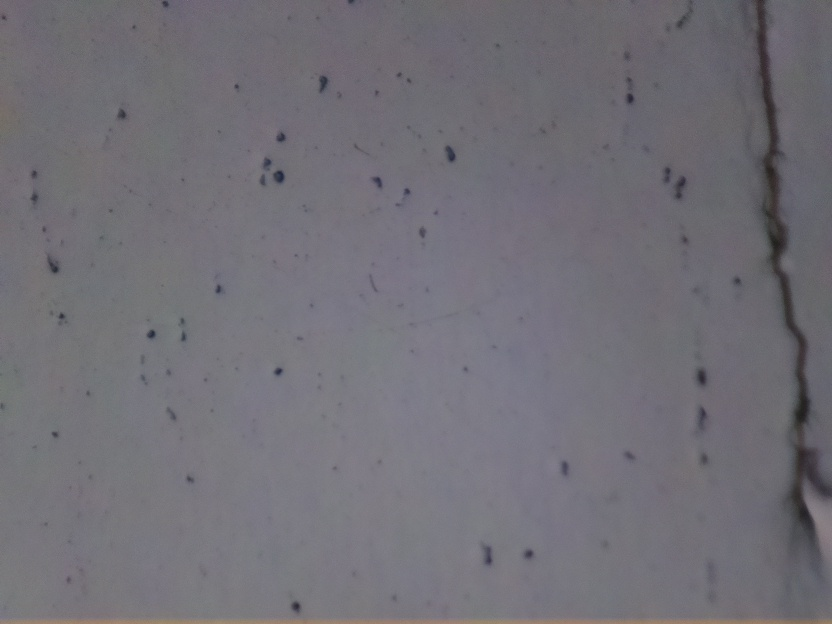crack: (746, 0, 823, 556)
